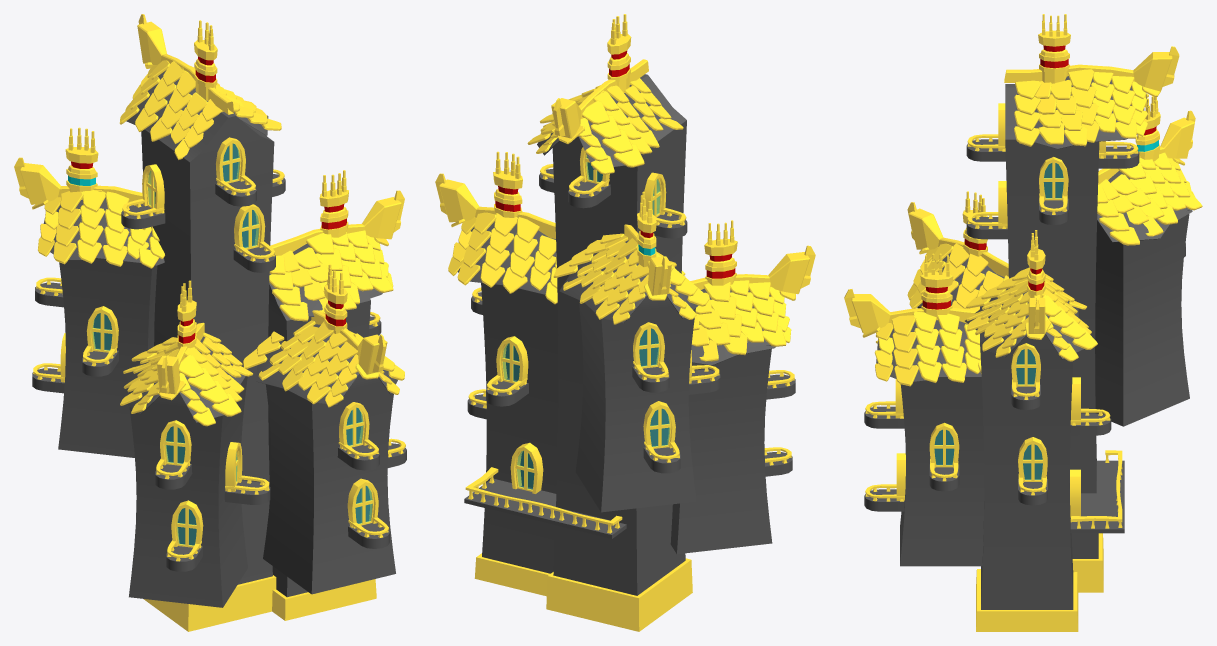
File: mage_buildingset2.fbx
3 renders of one model, left to right at view 1: azimuth 30°, elevation 25°; view 2: azimuth 150°, elevation 25°; view 3: azimuth 270°, elevation 25°, orthographic. The views are drawn at different scales.
Parts seen in each view (by area): view 1: mage_buildingset2, shingles, roof_tops, windows, railing, roof_covers, window_glass; view 2: mage_buildingset2, shingles, roof_tops, windows, railing, roof_covers, window_glass; view 3: mage_buildingset2, shingles, roof_tops, windows, railing, roof_covers, window_glass.
Part boxes in pixels (x1,y1,x2,y2): mage_buildingset2: (32, 112, 406, 631); shingles: (32, 60, 404, 426); roof_tops: (14, 14, 404, 394); windows: (60, 137, 378, 549); railing: (33, 169, 405, 561); roof_covers: (43, 70, 397, 422); window_glass: (93, 144, 372, 545); mage_buildingset2: (464, 74, 795, 631); shingles: (448, 78, 795, 361); roof_tops: (435, 14, 815, 295); windows: (496, 147, 767, 493); railing: (465, 164, 794, 533); roof_covers: (457, 85, 775, 365); window_glass: (503, 156, 669, 489); mage_buildingset2: (864, 84, 1189, 631); shingles: (862, 66, 1202, 386); roof_tops: (844, 14, 1195, 333); windows: (895, 103, 1105, 517); railing: (865, 134, 1138, 528); roof_covers: (876, 76, 1192, 381); window_glass: (934, 163, 1063, 479).
Bounding box in the file's own units: 26.09 × 45.6 × 26.62.
